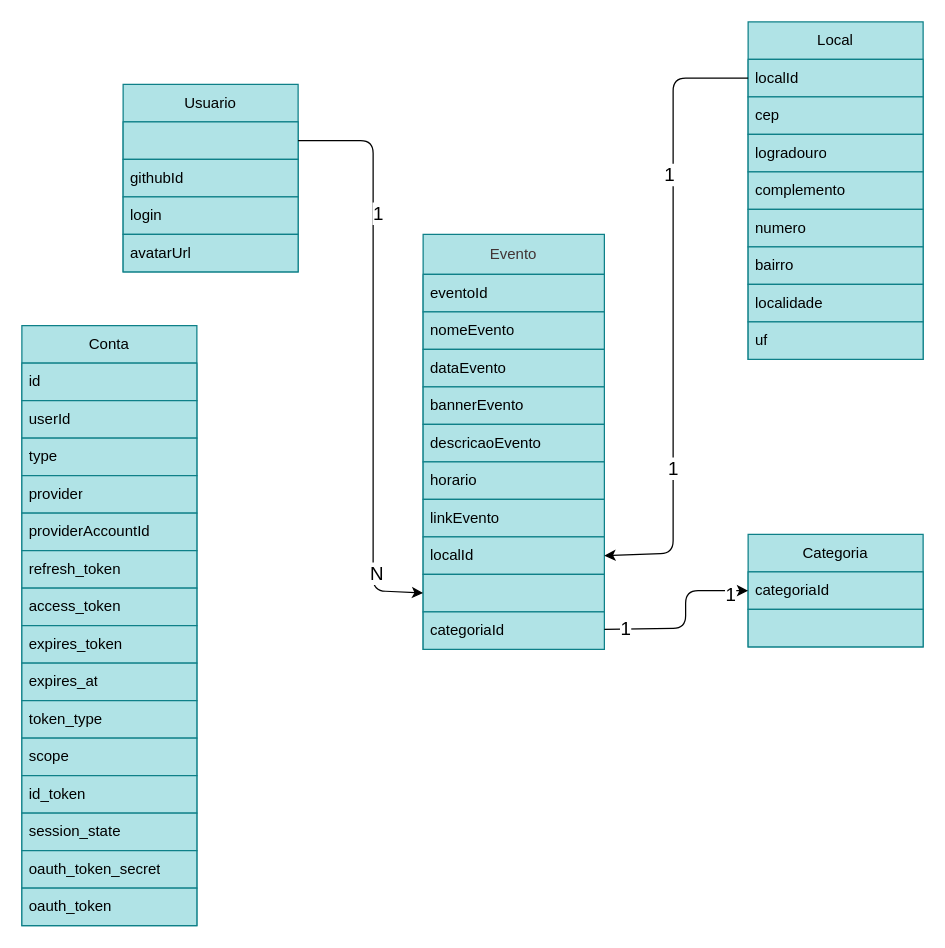
This 945x948 diagram has some shape labels left out. Here are the shapes that lost their labels. From the top down, the centre of each, then its label:
the point at 210,140: usuarioId
the point at 513,592: usuario_cadastro_Id
the point at 835,627: nomeCategoria
